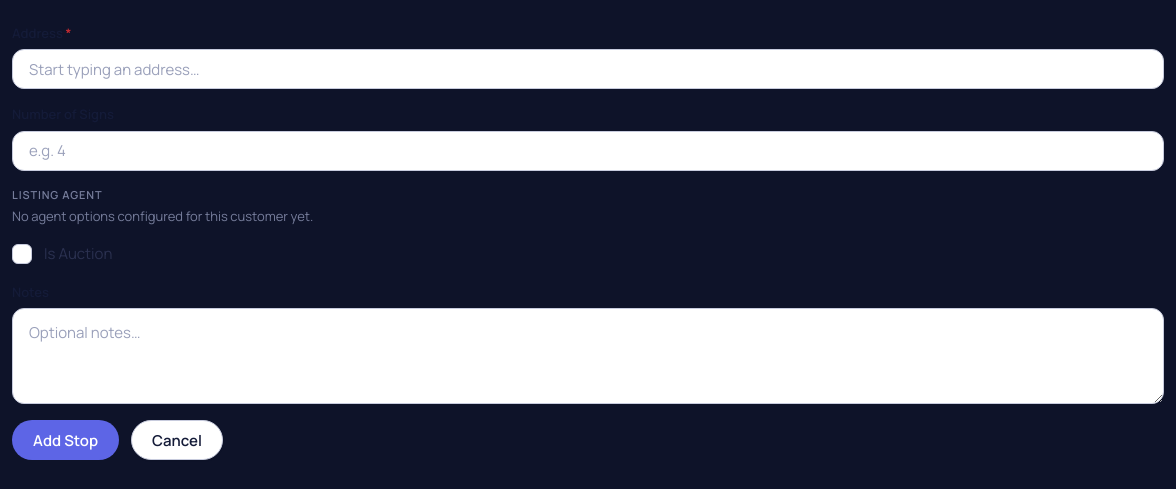
Test: StopForm › shows error when address is empty on submit
The width and height of the screenshot is (1176, 489).
Step 1. Click the button "Add Stop" → (66, 440), box left=12, top=420, right=119, bottom=460
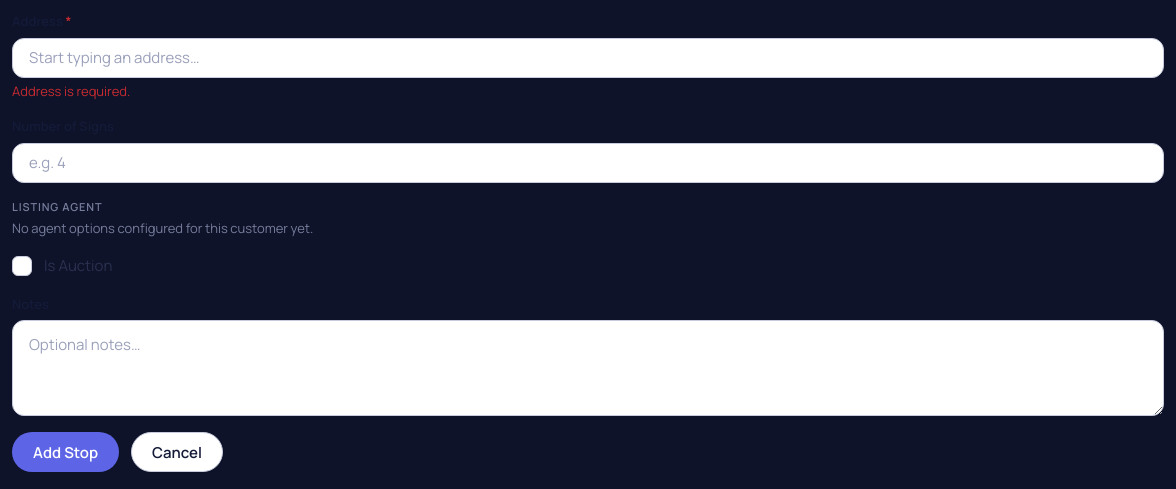
Expected: the text "Address is required." is shown, left=12, top=82, right=130, bottom=100
